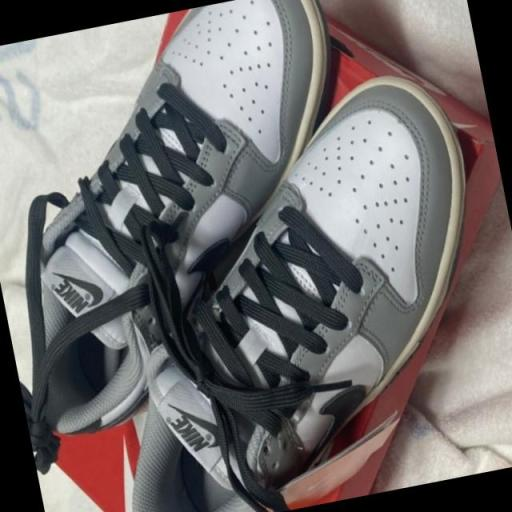Nike: (168, 412, 211, 454), (70, 270, 105, 305)
